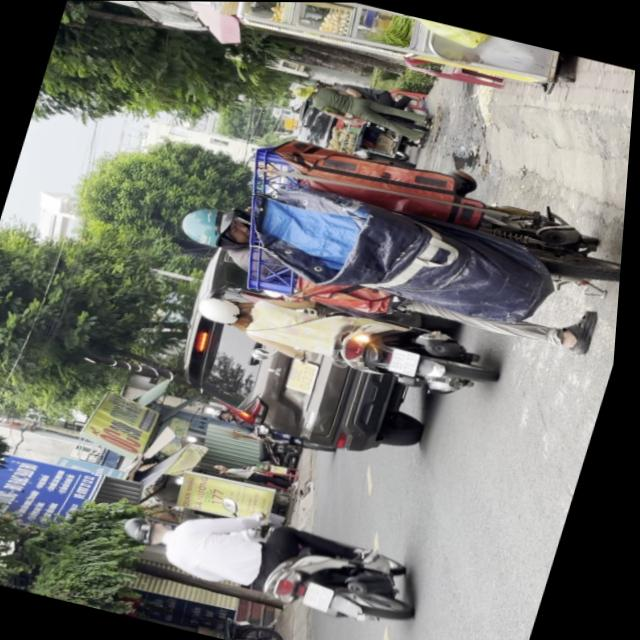helmet: (197, 291, 256, 331), (126, 512, 179, 549)
licenseplate: (112, 485, 437, 635), (187, 272, 509, 407)
nohelmet: (308, 580, 343, 612), (390, 347, 424, 376)
